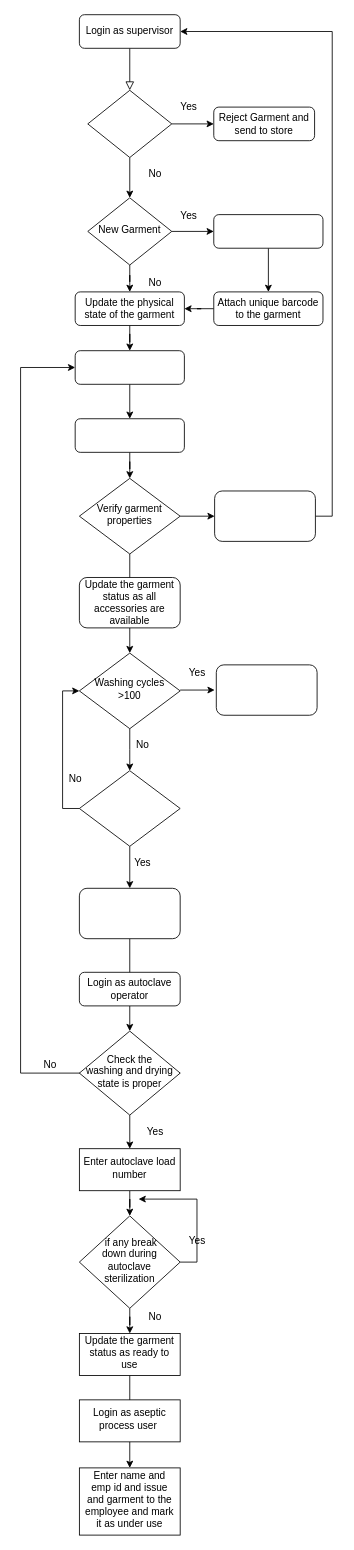
The diagram is 354 pixels wide and 1550 high, and some of its shapes have lost their labels. Each missing label, with the box of its shape:
Discard the garment and notify to supervisor: (215, 664, 317, 715)
Generate Unique barcode for tracking: (213, 214, 323, 248)
Mark garment as invalid and send to inspection: (214, 490, 315, 541)
Scan barcode of the garment: (74, 418, 184, 452)
Update the garment as washing completed: (79, 887, 180, 939)
Verify strains and marks: (87, 89, 172, 158)
Washing completed?: (79, 770, 180, 846)
Washing operator login: (74, 350, 184, 384)
